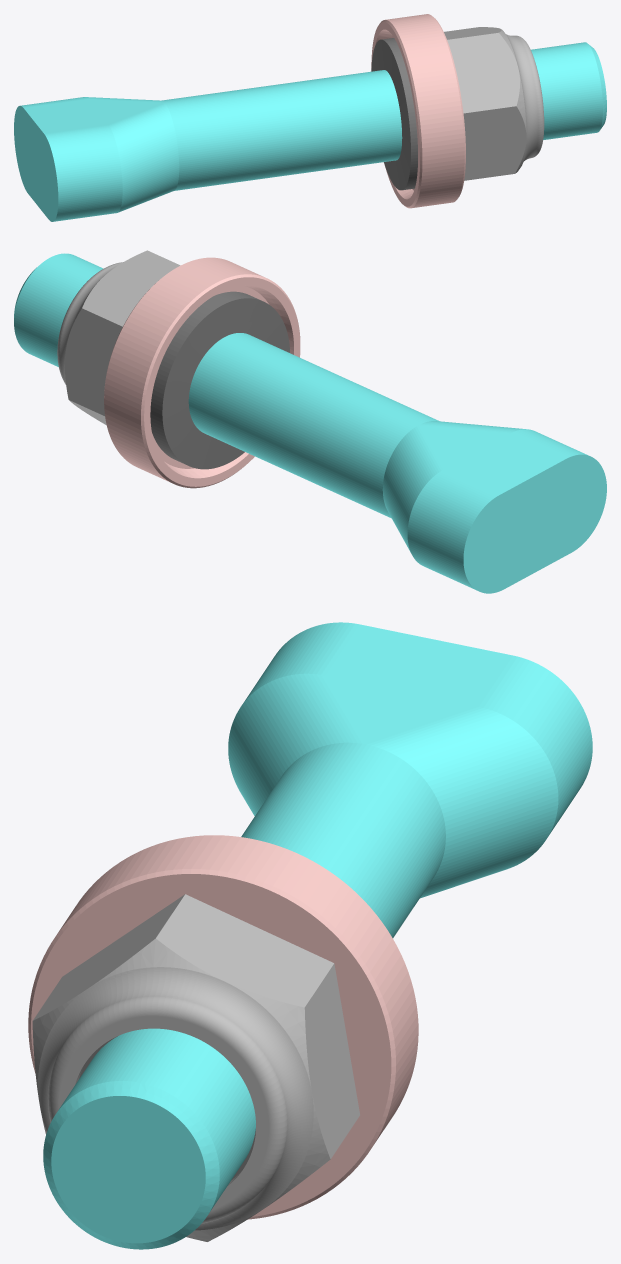
The model's file is BallMill_Fasteners_Through_Bolting_M36_[BM_OVFL_18].glb.
The picture shows the model from 3 angles, top to bottom: view 1: azimuth 30°, elevation 25°; view 2: azimuth 150°, elevation 25°; view 3: azimuth 270°, elevation 25°; orthographic projection. The views are drawn at different scales.
Visible parts, largest first — view 1: Node4, Node1, Node2, Node3; view 2: Node4, Node2, Node3, Node1; view 3: Node4, Node1, Node2.
Part boxes in pixels (bbox=[...]): Node4: bbox=[14, 42, 606, 221]; Node1: bbox=[444, 27, 544, 180]; Node2: bbox=[371, 14, 465, 208]; Node3: bbox=[371, 38, 417, 190]; Node4: bbox=[14, 253, 606, 593]; Node2: bbox=[104, 257, 300, 488]; Node3: bbox=[150, 291, 289, 469]; Node1: bbox=[57, 250, 180, 425]; Node4: bbox=[43, 622, 592, 1249]; Node1: bbox=[32, 894, 359, 1241]; Node2: bbox=[28, 835, 418, 1219].
Size of the model in its own units: 0.3117 by 0.1005 by 0.1483.
